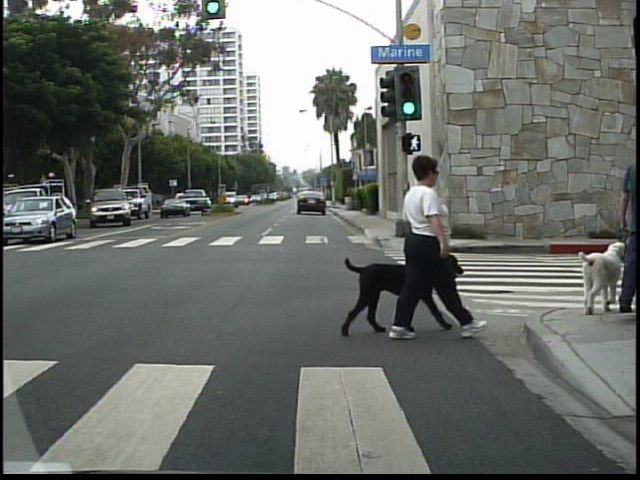person: (389, 144, 463, 346)
